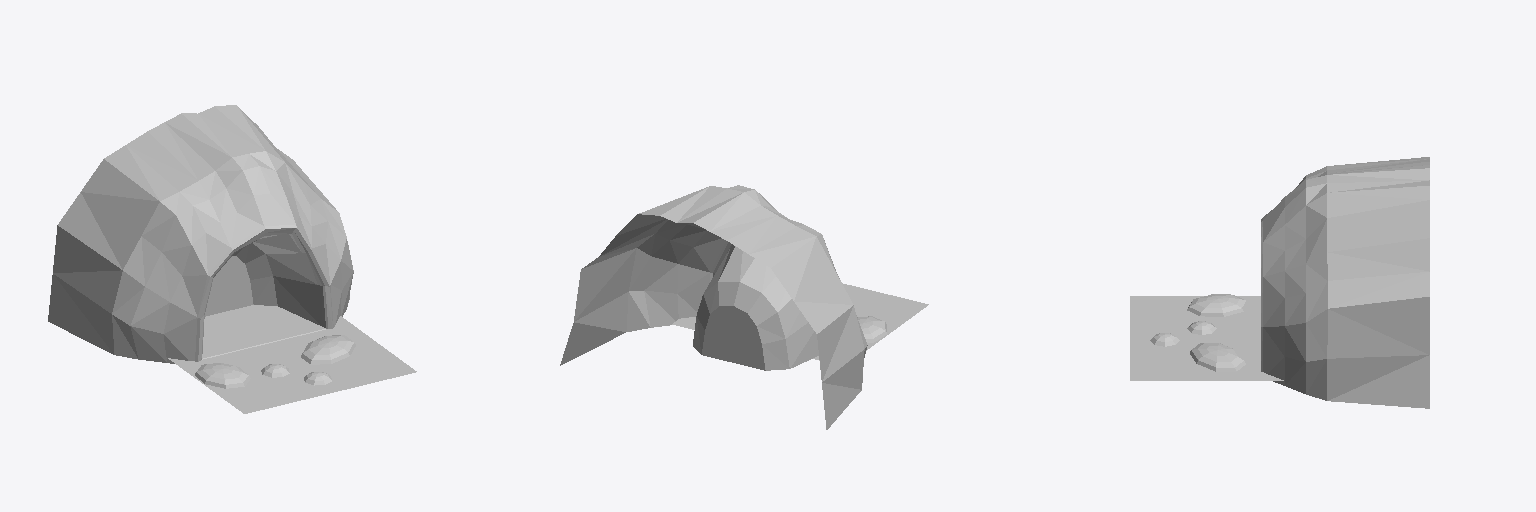
File: Cave Entrance.obj
3 views of the same model, side by side, from view 1: azimuth 30°, elevation 25°; view 2: azimuth 150°, elevation 25°; view 3: azimuth 270°, elevation 25° (orthographic).
Parts seen in each view (by area): view 1: pCylinder2 Cave, Cave pPlane2, Cave pSphere4, Cave pSphere1; view 2: pCylinder2 Cave, Cave pPlane2, Cave pSphere1; view 3: pCylinder2 Cave, Cave pPlane2, Cave pSphere4, Cave pSphere1.
Part boxes in pixels (x1,y1,x2,y2): pCylinder2 Cave: (48,105,353,363); Cave pPlane2: (168,316,416,413); Cave pSphere4: (301,335,355,364); Cave pSphere1: (195,363,250,388); pCylinder2 Cave: (560,185,867,429); Cave pPlane2: (672,283,928,360); Cave pSphere1: (857,316,886,342); pCylinder2 Cave: (1261,157,1429,408); Cave pPlane2: (1130,296,1283,380); Cave pSphere4: (1190,343,1245,371); Cave pSphere1: (1187,294,1248,316).
Size of the model in its own units: 711 by 447 by 693.